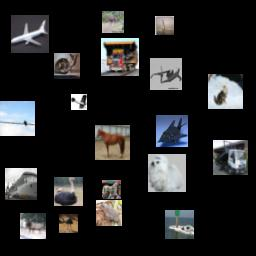airplane: (11, 15, 49, 53), (156, 115, 188, 147), (150, 58, 182, 90), (71, 94, 87, 110)
bird: (0, 101, 35, 136), (54, 177, 83, 206), (59, 214, 78, 233)
cat: (208, 74, 243, 109), (54, 53, 80, 79)
deer: (20, 213, 46, 239), (102, 11, 124, 33)
dog: (148, 154, 186, 192)
frog: (96, 200, 122, 226)
ship: (5, 168, 37, 200), (165, 210, 194, 239), (155, 16, 174, 35)
truck: (101, 38, 139, 76), (213, 140, 248, 175)
